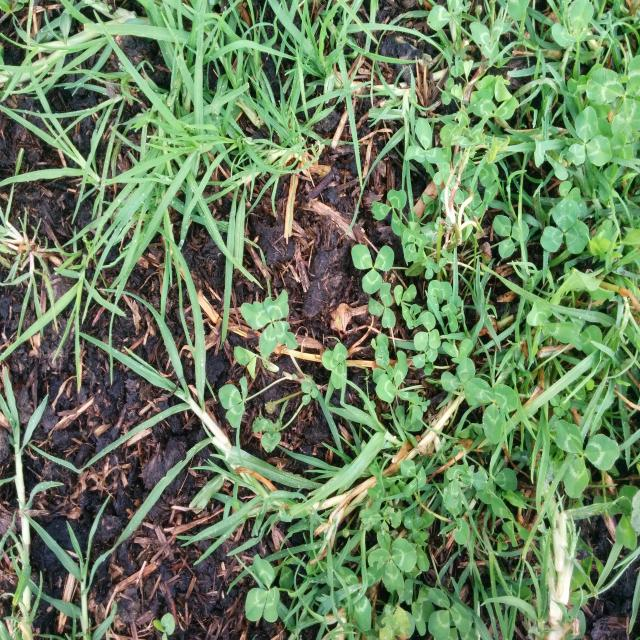Four Leaf Clover: (241, 289, 298, 355)
